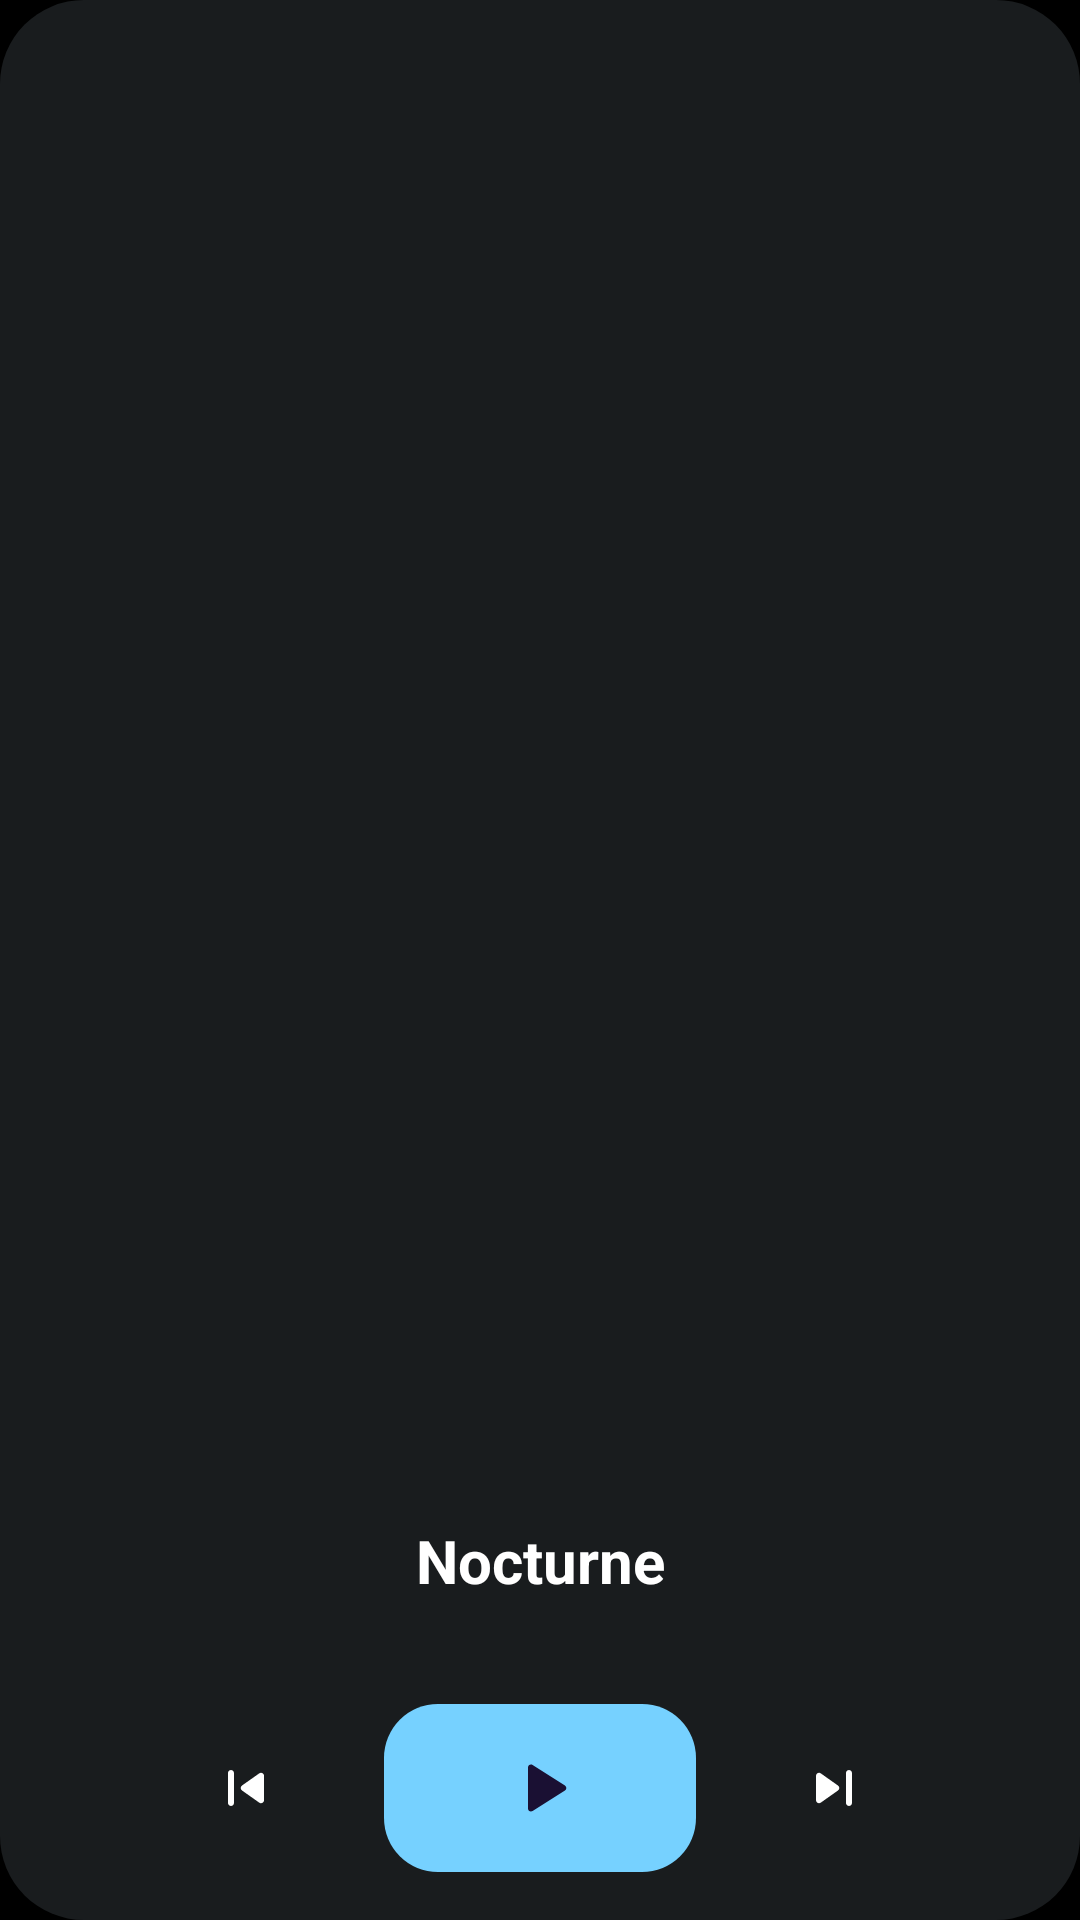

Named icons in this screenshot (1080×1920) and their centers, [x,y]:
Next: [834,1788]
Play: [540,1788]
Previous: [246,1788]
